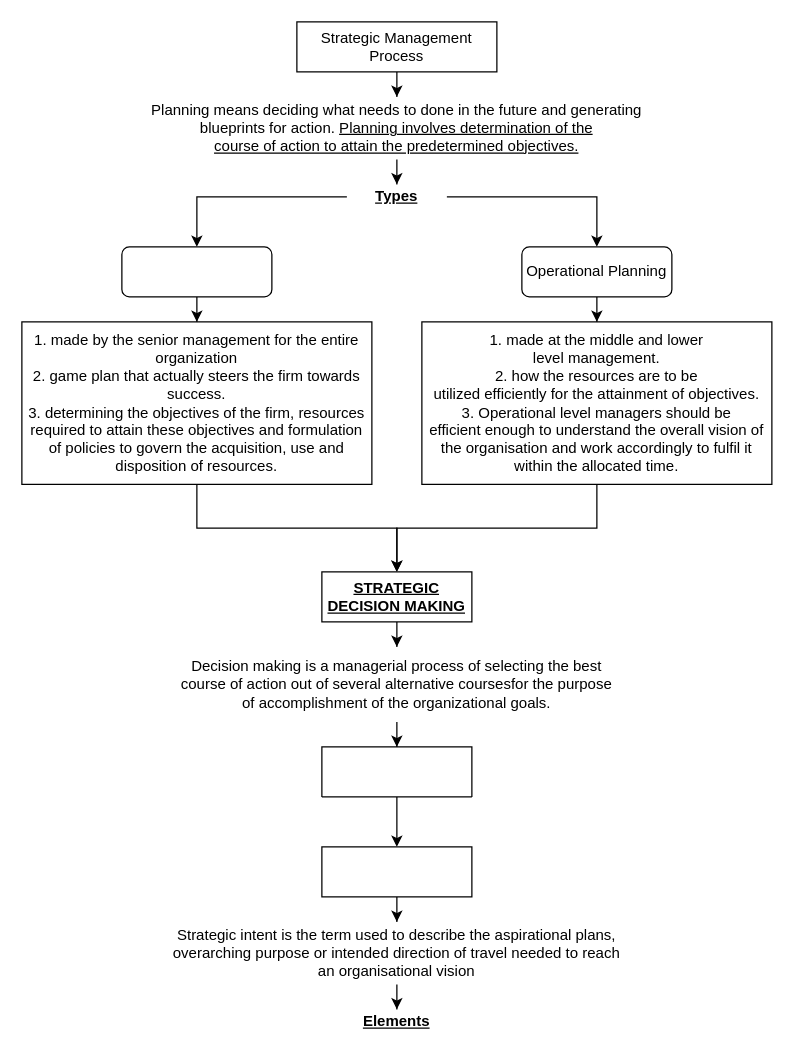
The diagram is 794 pixels wide and 1056 high, and some of its shapes have lost their labels. Here are the shapes that lost their labels. From the top down, the box of each, then its label:
(121, 246, 272, 297): Strategic Planning
(321, 746, 472, 797): Characteristics
(321, 846, 472, 897): STRATEGIC INTENTION
